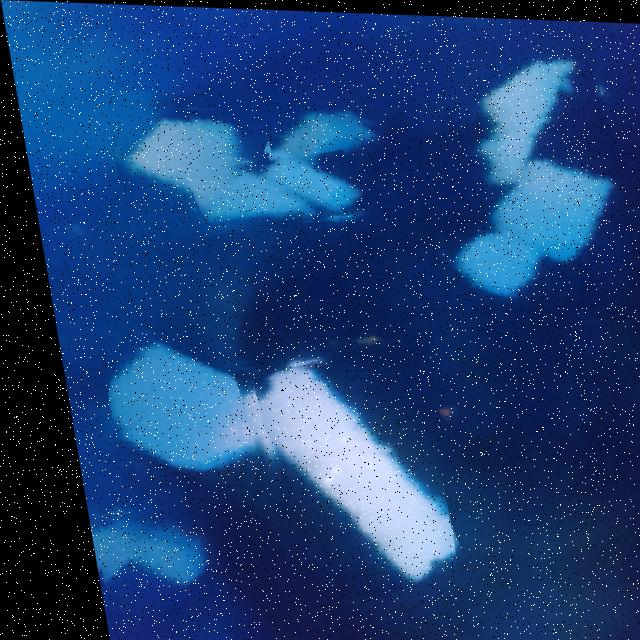litter: (391, 39, 640, 309), (232, 347, 442, 598), (100, 90, 390, 232), (433, 140, 633, 318), (84, 331, 280, 498), (444, 41, 619, 183), (100, 106, 257, 210), (174, 149, 364, 233), (68, 504, 202, 612), (258, 99, 385, 185)
